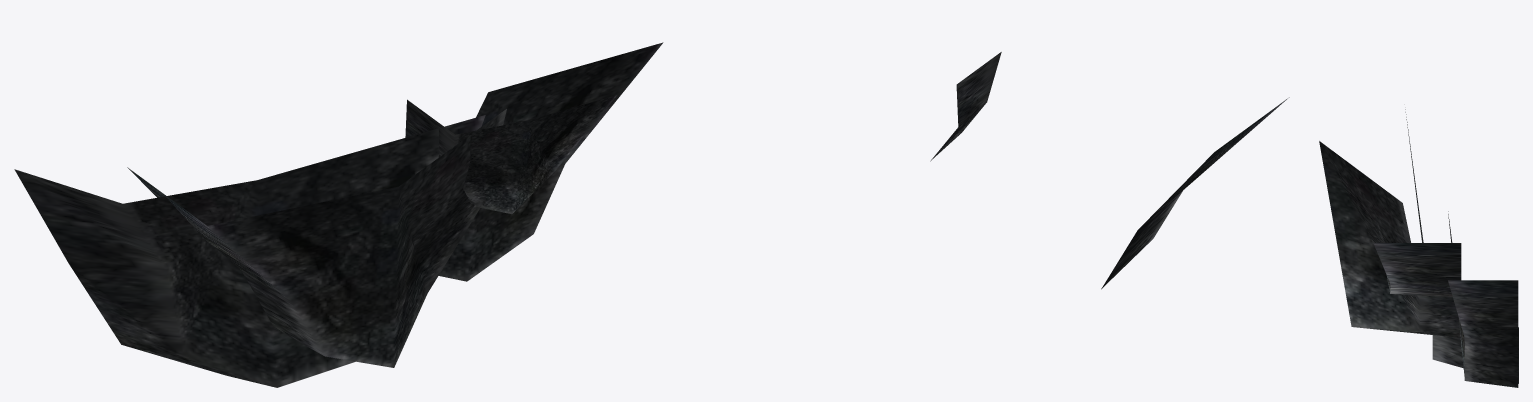
3 renders of one model, left to right at view 1: azimuth 30°, elevation 25°; view 2: azimuth 150°, elevation 25°; view 3: azimuth 270°, elevation 25°, orthographic. The views are drawn at different scales.
Parts seen in each view (by area): view 1: model_Object21; view 2: model_Object21; view 3: model_Object21.
Boxes of the visible parts, x1,y1,x2,y2 form: model_Object21: (14,42,663,387); model_Object21: (930,52,1289,289); model_Object21: (1319,109,1518,387).
Size of the model in its own units: 3.41 by 1.41 by 1.06.
1 material, 1 textured.
